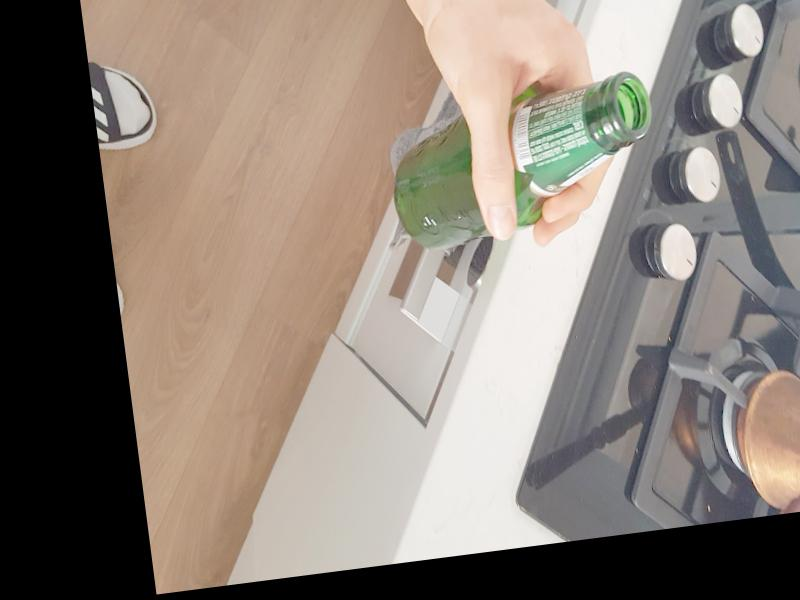Beer: (381, 70, 665, 251)
